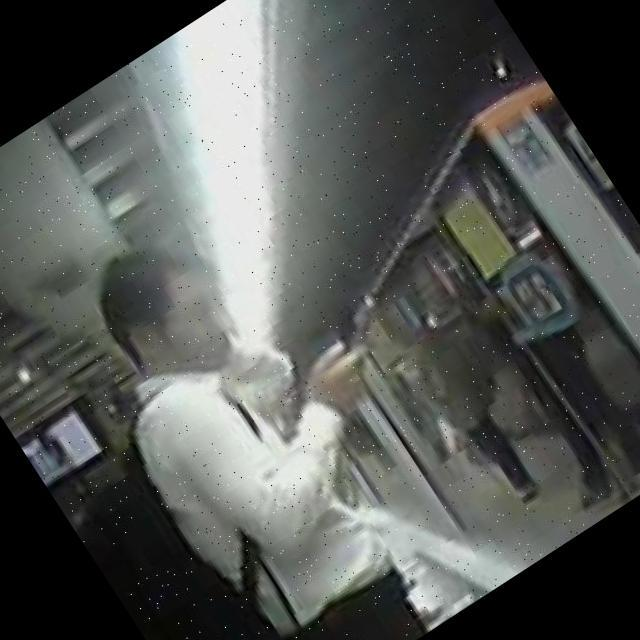person: (31, 174, 504, 640), (430, 226, 640, 526), (382, 297, 563, 521)
